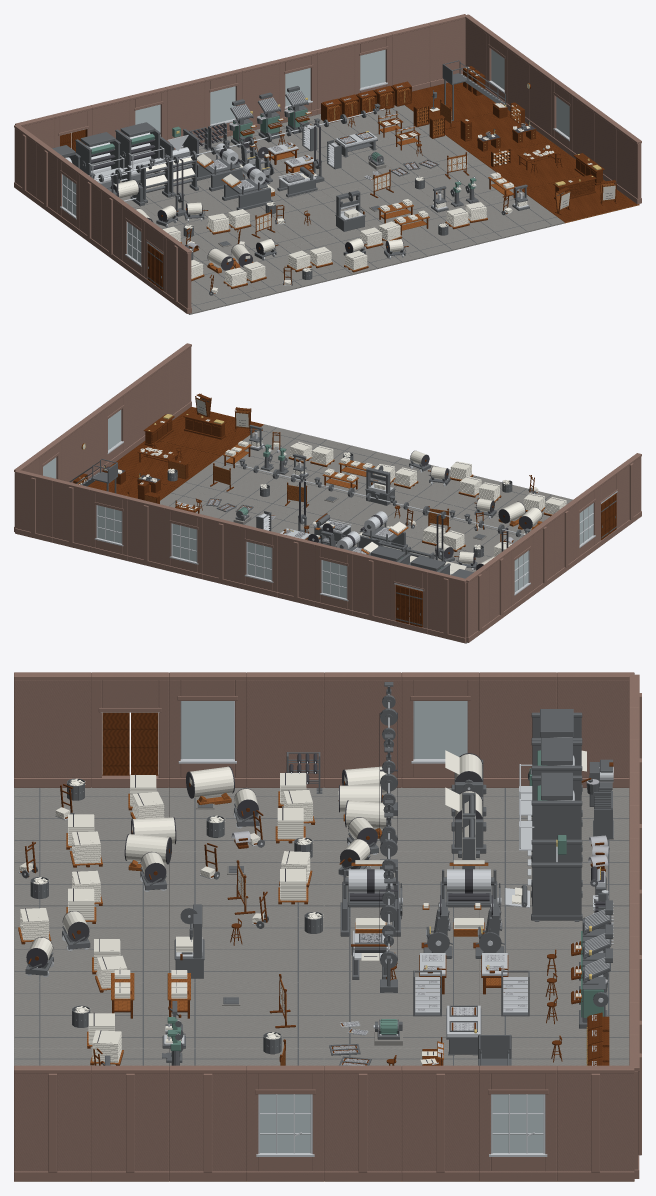
Rendered from printing-press-and-newspaper-office-news-d5e33c3b-starter-scene__37780.glb.
3 renders of one model, top to bottom at view 1: azimuth 30°, elevation 25°; view 2: azimuth 150°, elevation 25°; view 3: azimuth 270°, elevation 25°, orthographic. The views are drawn at different scales.
Parts seen in each view (by area): view 1: 022-works-floor-tile/0, 014-works-floor-tile/0, 010-works-floor-tile/0, 017-office-floor-tile/1, 021-works-floor-tile/0, 034-brick-wall-bay/0, 016-works-floor-tile/0, 015-works-floor-tile/0, 035-brick-wall-bay/0, 032-brick-wall-bay/0, 011-office-floor-tile/1, 009-works-floor-tile/0 (+57 smaller); view 2: 016-works-floor-tile/0, 024-brick-wall-bay/0, 030-brick-wall-bay/0, 028-brick-wall-bay/0, 032-brick-wall-bay/0, 026-brick-wall-bay/0, 034-brick-wall-bay/0, 035-brick-wall-bay/0, 015-works-floor-tile/0, 017-office-floor-tile/1, 023-office-floor-tile/1, 014-works-floor-tile/0 (+43 smaller); view 3: 046-brick-wall-bay/0, 050-brick-wall-bay/0, 051-brick-wall-bay/0, 047-brick-wall-bay/0, 049-brick-wall-bay/0, 044-brick-wall-bay/0, 043-brick-wall-bay/0, 015-works-floor-tile/0, 040-brick-wall-bay/0, 014-works-floor-tile/0, 021-works-floor-tile/0, 013-works-floor-tile/0 (+63 smaller).
Boxes of the visible parts, left/top/right/bottom form: 022-works-floor-tile/0: left=448, top=191, right=564, bottom=241; 014-works-floor-tile/0: left=253, top=195, right=370, bottom=245; 010-works-floor-tile/0: left=364, top=128, right=477, bottom=176; 017-office-floor-tile/1: left=478, top=141, right=581, bottom=190; 021-works-floor-tile/0: left=371, top=210, right=489, bottom=259; 034-brick-wall-bay/0: left=390, top=23, right=430, bottom=91; 016-works-floor-tile/0: left=403, top=159, right=519, bottom=208; 015-works-floor-tile/0: left=328, top=177, right=435, bottom=226; 035-brick-wall-bay/0: left=428, top=14, right=466, bottom=86; 032-brick-wall-bay/0: left=315, top=41, right=355, bottom=114; 011-office-floor-tile/1: left=445, top=110, right=549, bottom=158; 009-works-floor-tile/0: left=285, top=148, right=402, bottom=195; 016-works-floor-tile/0: left=178, top=456, right=292, bottom=505; 024-brick-wall-bay/0: left=427, top=570, right=466, bottom=643; 030-brick-wall-bay/0: left=202, top=515, right=242, bottom=588; 028-brick-wall-bay/0: left=277, top=533, right=317, bottom=606; 032-brick-wall-bay/0: left=127, top=497, right=167, bottom=569; 026-brick-wall-bay/0: left=352, top=552, right=392, bottom=624; 034-brick-wall-bay/0: left=52, top=478, right=92, bottom=551; 035-brick-wall-bay/0: left=15, top=470, right=54, bottom=542; 015-works-floor-tile/0: left=253, top=477, right=365, bottom=520; 017-office-floor-tile/1: left=110, top=441, right=220, bottom=487; 023-office-floor-tile/1: left=160, top=406, right=263, bottom=455; 014-works-floor-tile/0: left=332, top=497, right=444, bottom=539; 046-brick-wall-bay/0: left=401, top=1065, right=479, bottom=1181; 050-brick-wall-bay/0: left=91, top=1065, right=168, bottom=1181; 051-brick-wall-bay/0: left=14, top=1065, right=91, bottom=1181; 047-brick-wall-bay/0: left=324, top=1065, right=401, bottom=1181; 049-brick-wall-bay/0: left=169, top=1065, right=246, bottom=1181; 044-brick-wall-bay/0: left=557, top=1065, right=634, bottom=1181; 043-brick-wall-bay/0: left=14, top=672, right=91, bottom=787; 015-works-floor-tile/0: left=170, top=982, right=324, bottom=1048; 040-brick-wall-bay/0: left=246, top=672, right=324, bottom=787; 014-works-floor-tile/0: left=169, top=917, right=324, bottom=982; 021-works-floor-tile/0: left=14, top=982, right=168, bottom=1048; 013-works-floor-tile/0: left=169, top=851, right=324, bottom=917.
Bounding box in the file's own units: 36.58 × 4.86 × 24.29.
12 materials, 4 textured.
